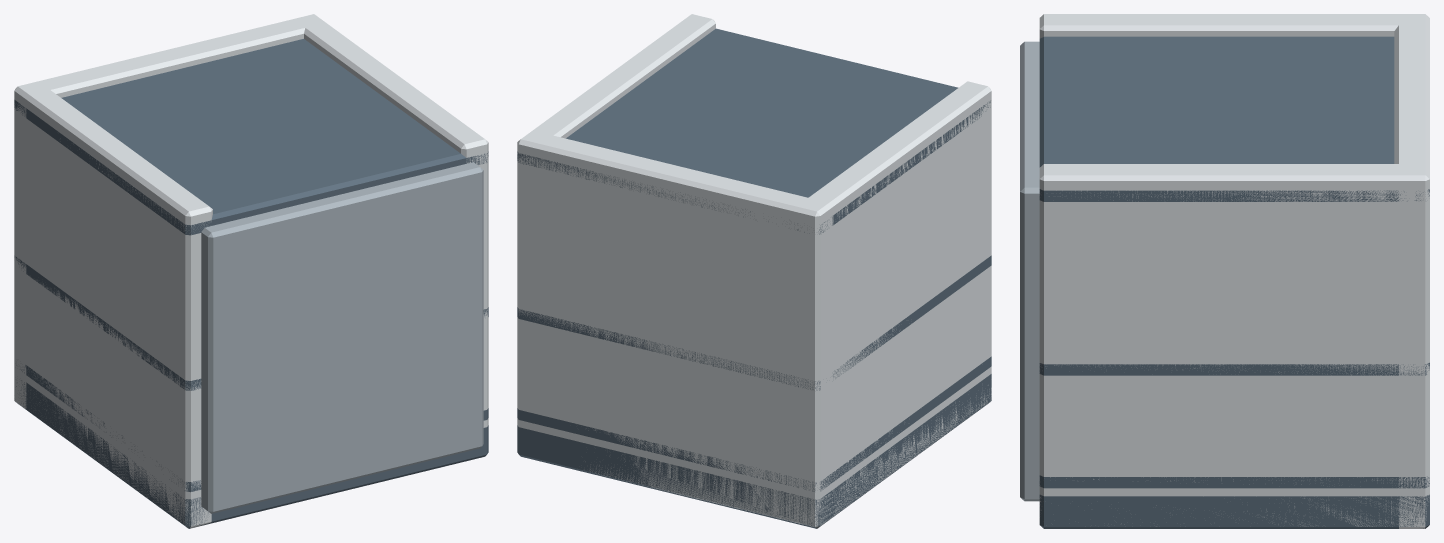
File: machine-shielded-store.fbx
3 renders of one model, left to right at view 1: azimuth 30°, elevation 25°; view 2: azimuth 150°, elevation 25°; view 3: azimuth 270°, elevation 25°, orthographic. The views are drawn at different scales.
Parts seen in each view (by area): view 1: machine-shielded-store_Shielded access.001, machine-shielded-store_Storage side.002, machine-shielded-store_Shelf.005, machine-shielded-store_Back.001, machine-shielded-store_Skid.001, machine-shielded-store_Storage side.003, machine-shielded-store_Shelf.004, machine-shielded-store_Shelf.003; view 2: machine-shielded-store_Back.001, machine-shielded-store_Storage side.002, machine-shielded-store_Shelf.005, machine-shielded-store_Skid.001, machine-shielded-store_Storage side.003, machine-shielded-store_Shelf.003, machine-shielded-store_Shelf.004; view 3: machine-shielded-store_Storage side.003, machine-shielded-store_Shelf.005, machine-shielded-store_Back.001, machine-shielded-store_Skid.001, machine-shielded-store_Shielded access.001, machine-shielded-store_Storage side.002, machine-shielded-store_Shelf.003, machine-shielded-store_Shelf.004.
Boxes of the visible parts, x1,y1,x2,y2 form: machine-shielded-store_Shielded access.001: [201, 162, 483, 513]; machine-shielded-store_Storage side.002: [15, 81, 212, 528]; machine-shielded-store_Shelf.005: [14, 39, 488, 235]; machine-shielded-store_Back.001: [14, 14, 325, 409]; machine-shielded-store_Skid.001: [16, 380, 488, 528]; machine-shielded-store_Storage side.003: [294, 14, 488, 427]; machine-shielded-store_Shelf.004: [14, 255, 488, 390]; machine-shielded-store_Shelf.003: [16, 365, 488, 492]; machine-shielded-store_Back.001: [517, 130, 832, 528]; machine-shielded-store_Storage side.002: [794, 81, 991, 526]; machine-shielded-store_Shelf.005: [517, 28, 990, 234]; machine-shielded-store_Skid.001: [517, 374, 991, 528]; machine-shielded-store_Storage side.003: [517, 14, 715, 431]; machine-shielded-store_Shelf.003: [517, 356, 991, 491]; machine-shielded-store_Shelf.004: [517, 255, 991, 390]; machine-shielded-store_Storage side.003: [1039, 164, 1429, 526]; machine-shielded-store_Shelf.005: [1039, 36, 1429, 201]; machine-shielded-store_Back.001: [1394, 14, 1429, 528]; machine-shielded-store_Skid.001: [1039, 494, 1429, 528]; machine-shielded-store_Shielded access.001: [1020, 41, 1039, 501]; machine-shielded-store_Storage side.002: [1039, 14, 1429, 38]; machine-shielded-store_Shelf.003: [1039, 475, 1429, 488]; machine-shielded-store_Shelf.004: [1039, 362, 1429, 375].
Size of the model in its own units: 220 by 220 by 231.
